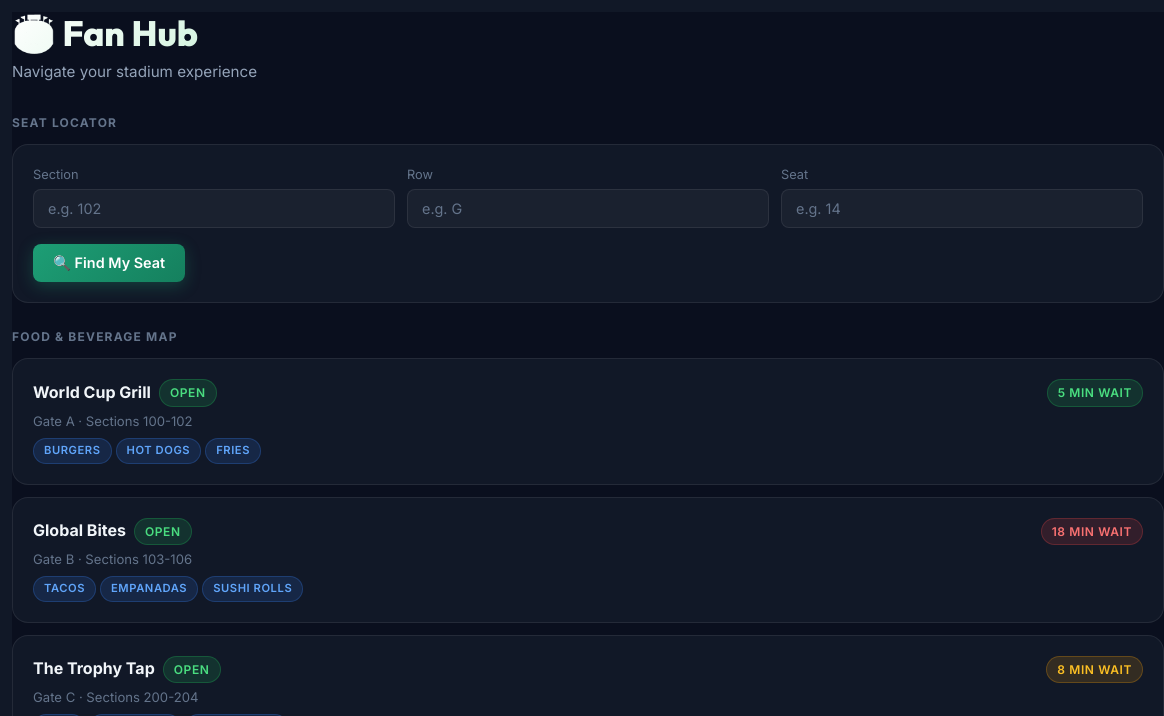
FanHub › shows gate directions for a known section (102)
This screenshot has width=1164, height=716.
Type "102" into the field named "section number". click: (214, 209)
box: [33,189,395,228]
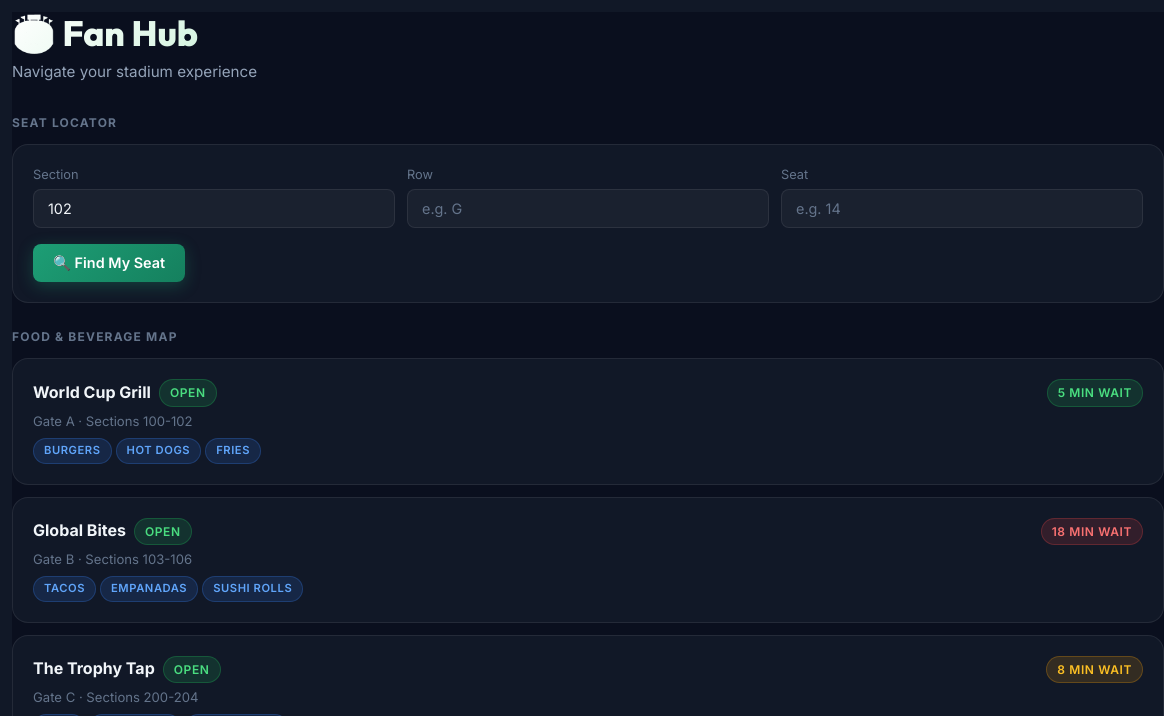
Click the button "🔍 Find My Seat". click: (109, 263)
box: [33,244,185,282]
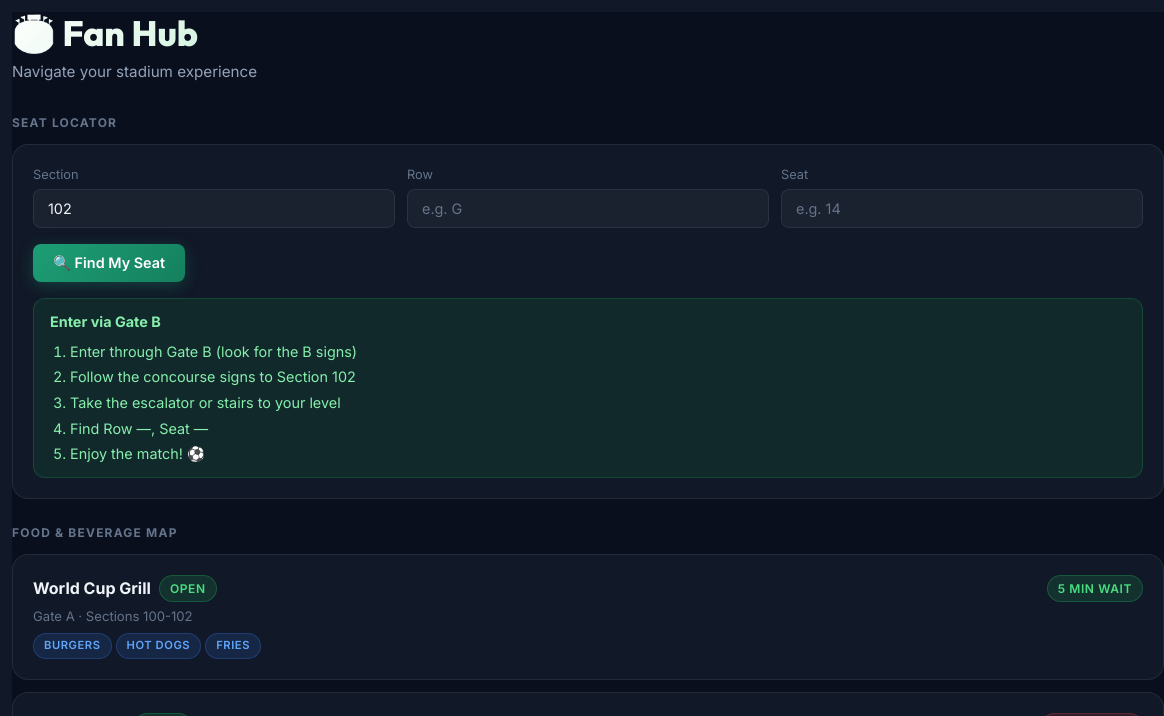
Now the text "Enter via Gate B" is shown, box [50,313,161,330]
